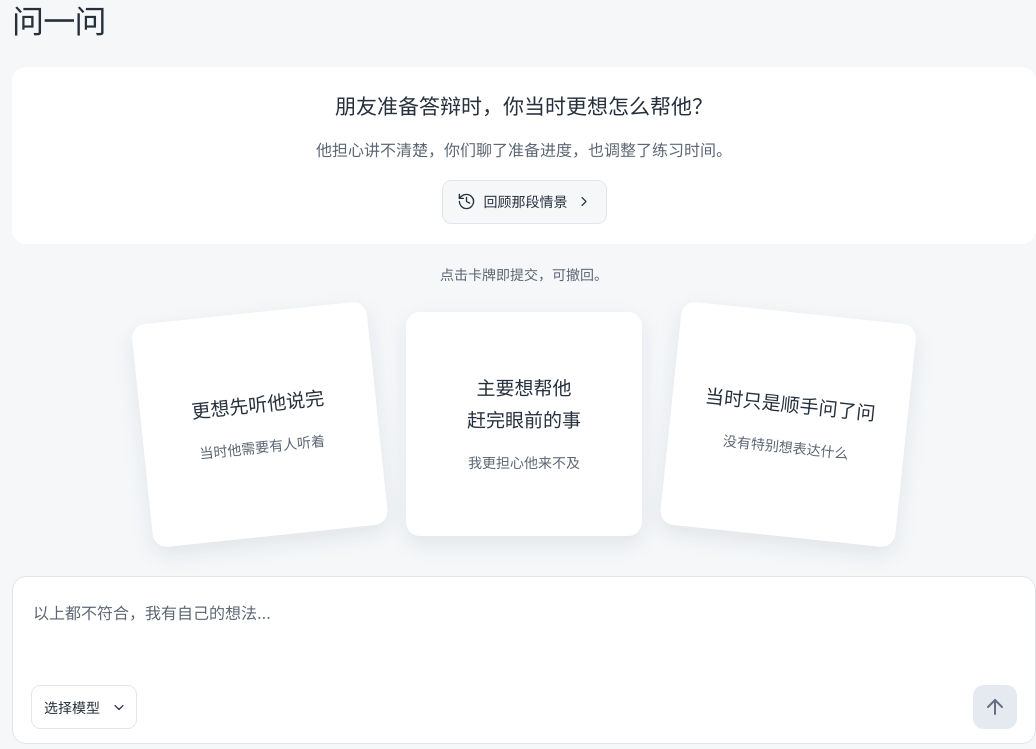
问一问页面 › 中文组合输入及 Shift+Enter 不发送，普通 Enter 发送完整回答
Type "我想先听他说完。" into the text box labelled "以上都不符合，我有自己的想法…". click: (524, 633)
box: [31,593,1017,673]
(page scrolled)
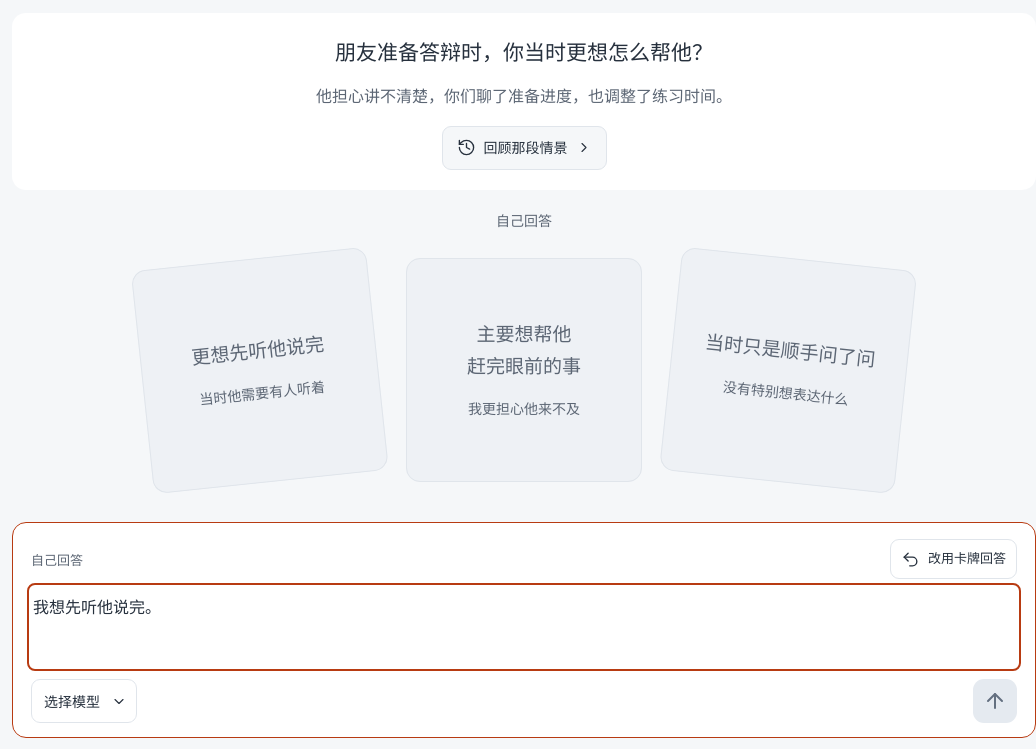
Select "示例模型" in the dropdown named "选择模型". click: (84, 701)
box: [31,679,137,723]
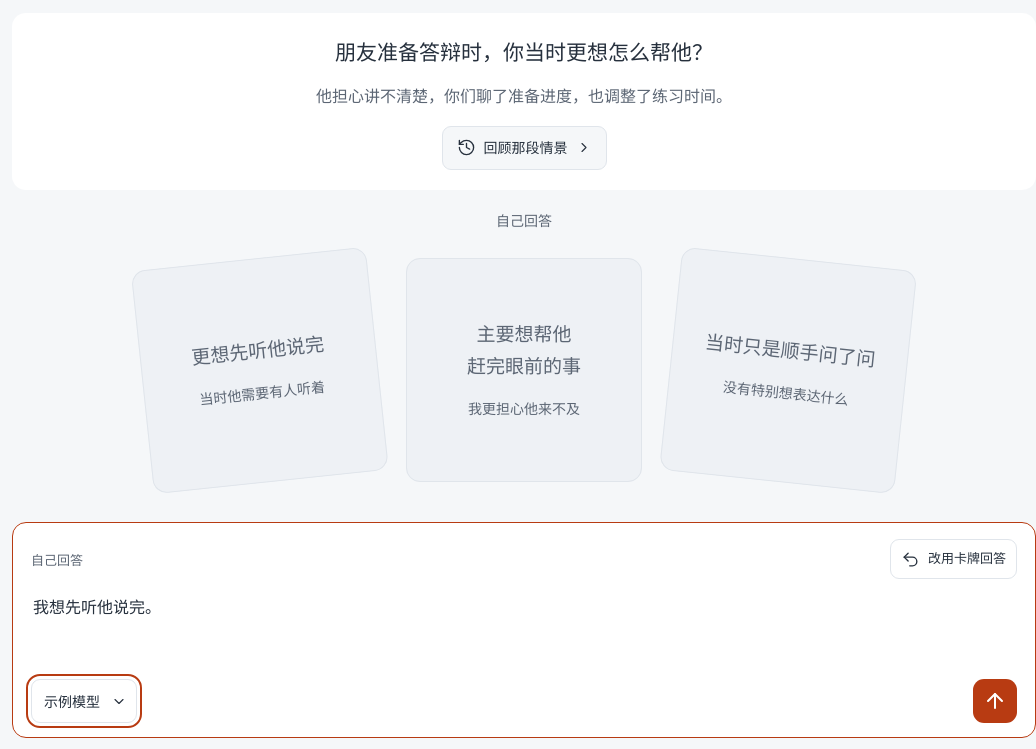
Press Enter in the text box named "以上都不符合，我有自己的想法…", box [31,587,1017,667]
Press Enter in the text box named "以上都不符合，我有自己的想法…", box [31,587,1017,667]
Press Enter in the text box named "以上都不符合，我有自己的想法…", box [31,587,1017,667]
Press Enter in the text box named "以上都不符合，我有自己的想法…", box [31,587,1017,667]
(page scrolled)
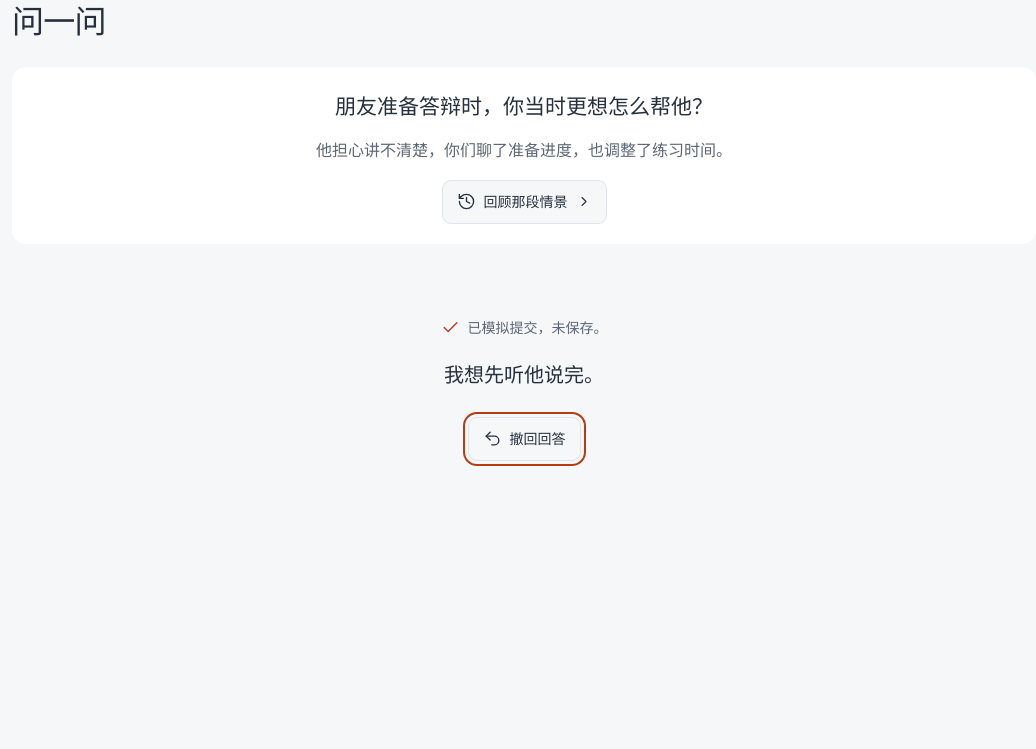
Check: the text "已模拟提交，未保存。" is shown, box [440,316,608,339]
